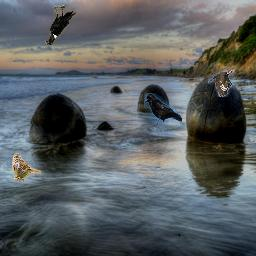Crow: (144, 93, 182, 129), (45, 5, 76, 45)
Sparrow: (12, 153, 41, 182)
Woodpecker: (208, 69, 235, 97)
